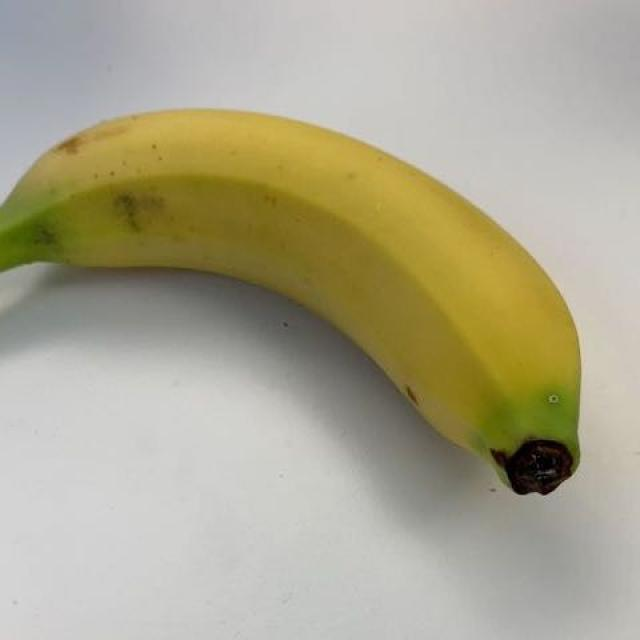Banana: (0, 91, 597, 512)
